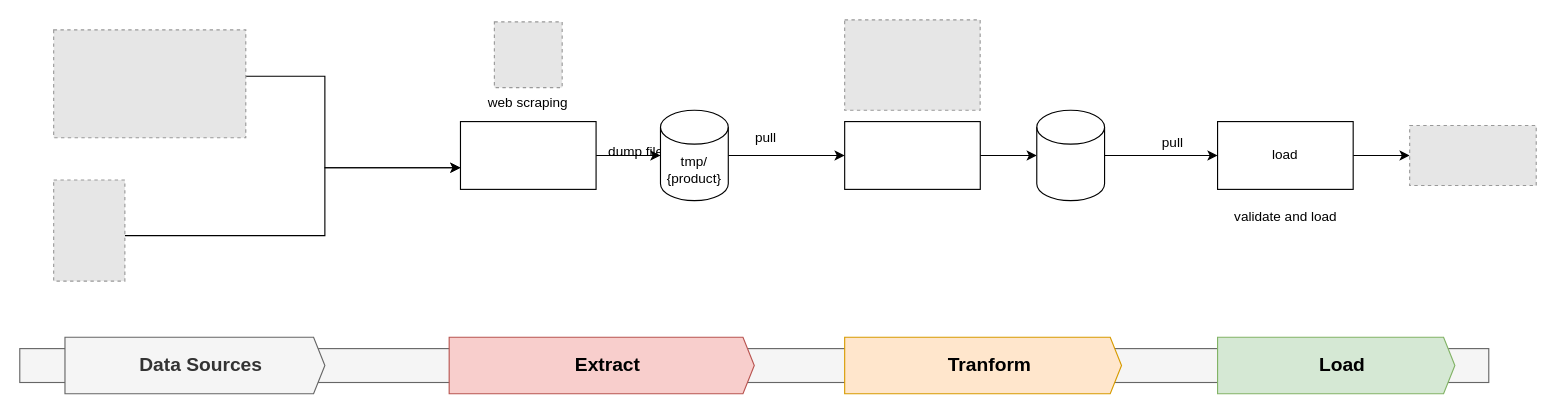
The diagram is 1556 pixels wide and 414 high, and some of its shapes have lost their labels. Grey dashed boxes stand in for pictures. The centre of each missing label's shape, as x and y in pixels:
"extraction" goes at point (527, 154).
"preprocessing" goes at point (912, 154).
"tmp/ prep_{product}" goes at point (1070, 155).
